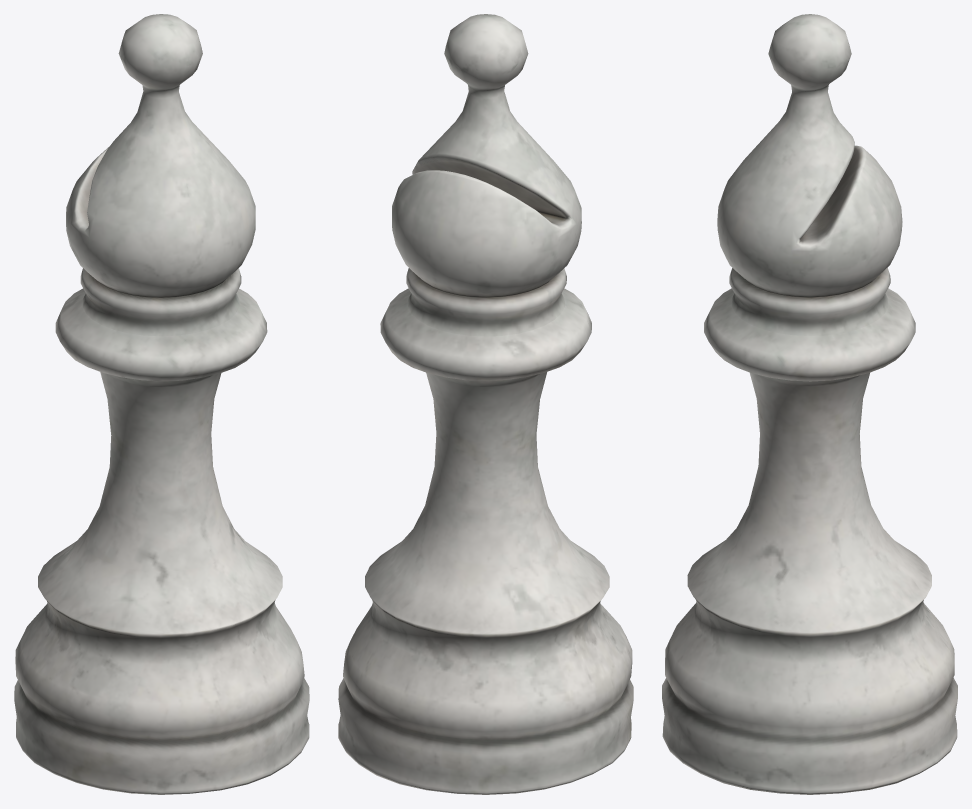
File: bishop.gltf
The picture shows the model from 3 angles, left to right: view 1: azimuth 30°, elevation 25°; view 2: azimuth 150°, elevation 25°; view 3: azimuth 270°, elevation 25°; orthographic projection.
Visible parts, largest first — view 1: bishop; view 2: bishop; view 3: bishop.
Boxes of the visible parts, x1,y1,x2,y2 form: bishop: (14, 14, 309, 794); bishop: (338, 14, 633, 794); bishop: (662, 14, 957, 794).
Size of the model in its own units: 0.3222 by 0.8581 by 0.3219.
